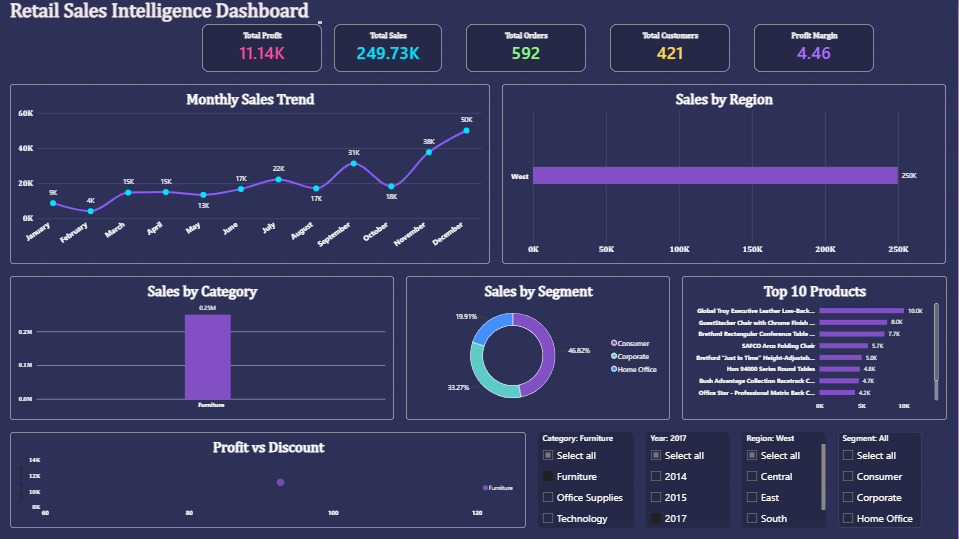

The dashboard page shown, as its layout file describes it:
{"tool":"powerbi","page":{"name":"Page 1","canvas":[1920,1080],"ordinal":0},"visuals":[{"type":"card","title":"Total Customers","fields":{"Values":["cleaned_superstore.Total Customer"]},"box":[1224,48,240,96],"z":0},{"type":"card","title":"Total Orders","fields":{"Values":["cleaned_superstore.Total Orders"]},"box":[936,48,240,96],"z":1000},{"type":"card","title":"Total Profit","fields":{"Values":["cleaned_superstore.Total Profit"]},"box":[408,48,240,96],"z":2000},{"type":"card","title":"Total Sales","fields":{"Values":["cleaned_superstore.Total Sales"]},"box":[672,48,216,96],"z":3000},{"type":"lineChart","title":"Monthly Sales Trend","fields":{"Category":["cleaned_superstore.Month Name"],"Y":["Sum(cleaned_superstore.Sales)"]},"box":[24,168,960,360],"z":4000},{"type":"clusteredBarChart","title":"Sales by Region","fields":{"Category":["cleaned_superstore.Region"],"Y":["cleaned_superstore.Total Sales"]},"box":[1008,168,888,360],"z":5000},{"type":"clusteredColumnChart","title":"Sales by Category","fields":{"Category":["cleaned_superstore.Category"],"Y":["cleaned_superstore.Total Sales"]},"box":[24,552,768,288],"z":6000},{"type":"donutChart","title":"Sales by Segment","fields":{"Category":["cleaned_superstore.Segment"],"Y":["cleaned_superstore.Total Sales"]},"box":[816,552,528,288],"z":7000},{"type":"clusteredBarChart","title":"Top 10 Products","fields":{"Category":["cleaned_superstore.Product Name"],"Y":["cleaned_superstore.Total Sales"]},"box":[1368,552,530,288],"z":8000},{"type":"slicer","fields":{"Values":["cleaned_superstore.Year"]},"box":[1296,864,168,192],"z":9000},{"type":"slicer","fields":{"Values":["cleaned_superstore.Region"]},"box":[1488,864,168,192],"z":10000},{"type":"slicer","fields":{"Values":["cleaned_superstore.Category"]},"box":[1080,864,192,192],"z":11000},{"type":"slicer","fields":{"Values":["cleaned_superstore.Segment"]},"box":[1680,864,168,192],"z":12000},{"type":"textbox","title":"Retail Sales Intelligence Dashboard","box":[24,0,624,48],"z":13000},{"type":"card","title":"Profit Margin","fields":{"Values":["cleaned_superstore.Profit Margin %"]},"box":[1512,48,240,96],"z":14000},{"type":"scatterChart","title":"Profit vs Discount","fields":{"X":["Sum(cleaned_superstore.Discount)"],"Y":["Sum(cleaned_superstore.Profit)"],"Series":["cleaned_superstore.Category"],"Size":["Sum(cleaned_superstore.Sales)"]},"box":[24,864,1032,192],"z":15000}]}

Visuals, with their boxes in screenshot pixels (x1, y1, x2, y2), scaled from the page's 1920x1080 canvas onto the 959x539 screenshot:
"Total Customers" card: bbox(611, 24, 731, 72)
"Total Orders" card: bbox(468, 24, 587, 72)
"Total Profit" card: bbox(204, 24, 324, 72)
"Total Sales" card: bbox(336, 24, 444, 72)
"Monthly Sales Trend" lineChart: bbox(12, 84, 491, 264)
"Sales by Region" clusteredBarChart: bbox(503, 84, 947, 264)
"Sales by Category" clusteredColumnChart: bbox(12, 275, 396, 419)
"Sales by Segment" donutChart: bbox(408, 275, 671, 419)
"Top 10 Products" clusteredBarChart: bbox(683, 275, 948, 419)
slicer - cleaned_superstore.Year: bbox(647, 431, 731, 527)
slicer - cleaned_superstore.Region: bbox(743, 431, 827, 527)
slicer - cleaned_superstore.Category: bbox(539, 431, 635, 527)
slicer - cleaned_superstore.Segment: bbox(839, 431, 923, 527)
"Retail Sales Intelligence Dashboard" textbox: bbox(12, 0, 324, 24)
"Profit Margin" card: bbox(755, 24, 875, 72)
"Profit vs Discount" scatterChart: bbox(12, 431, 527, 527)
